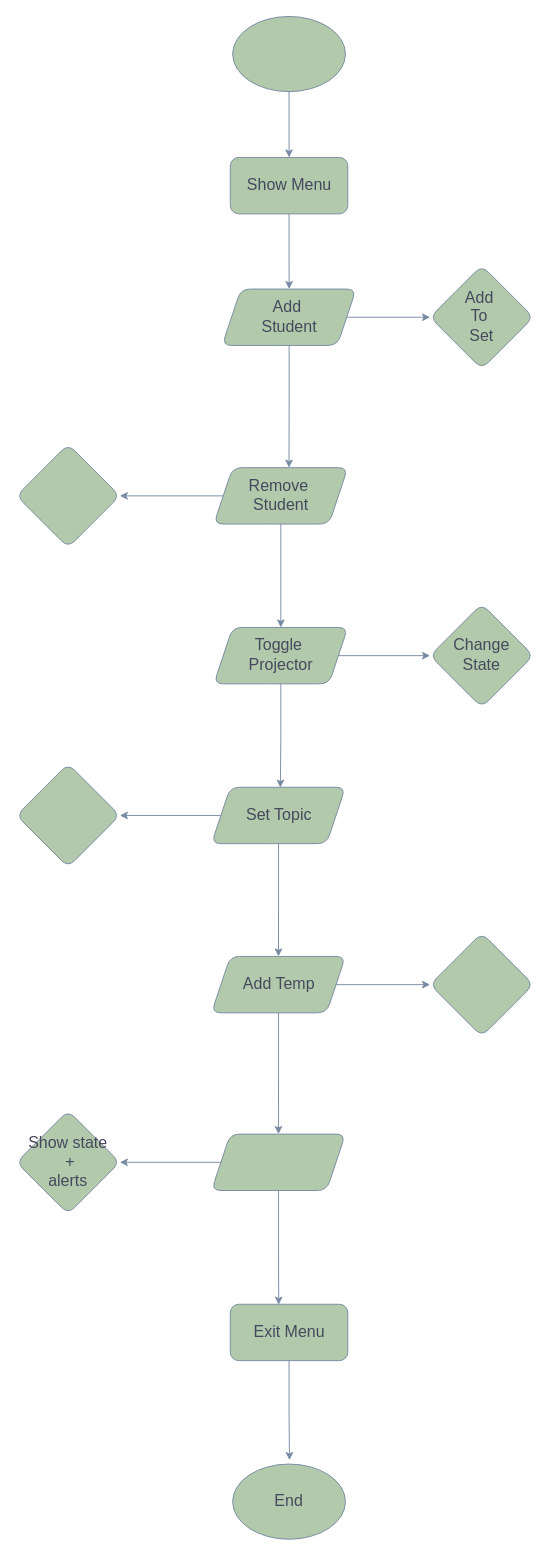
Some shapes in this 550 by 1556 pixel diagram are drawn without their labels. Here are the shapes that lost their labels. From the top down, the centre of each, then its label:
At [288,54]: "Start".
At [68,495]: "Remove From Set".
At [68,815]: "Update dict".
At [481,984]: "Append To List".
At [278,1162]: "Report".
